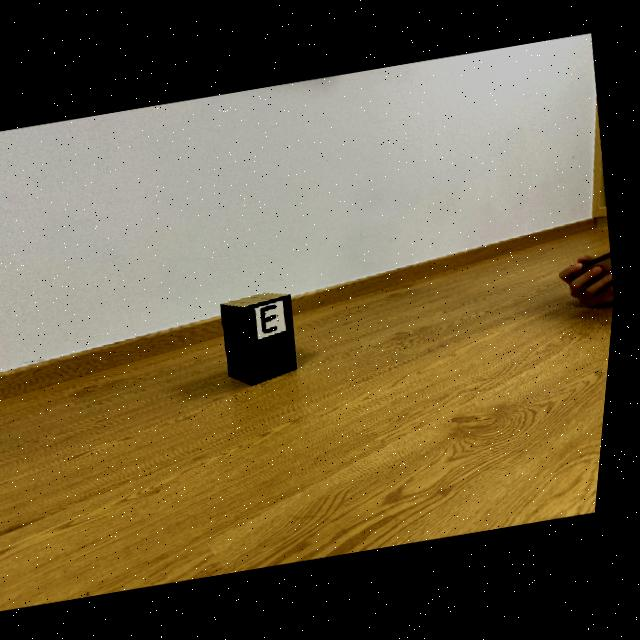E: (266, 304, 284, 333)
